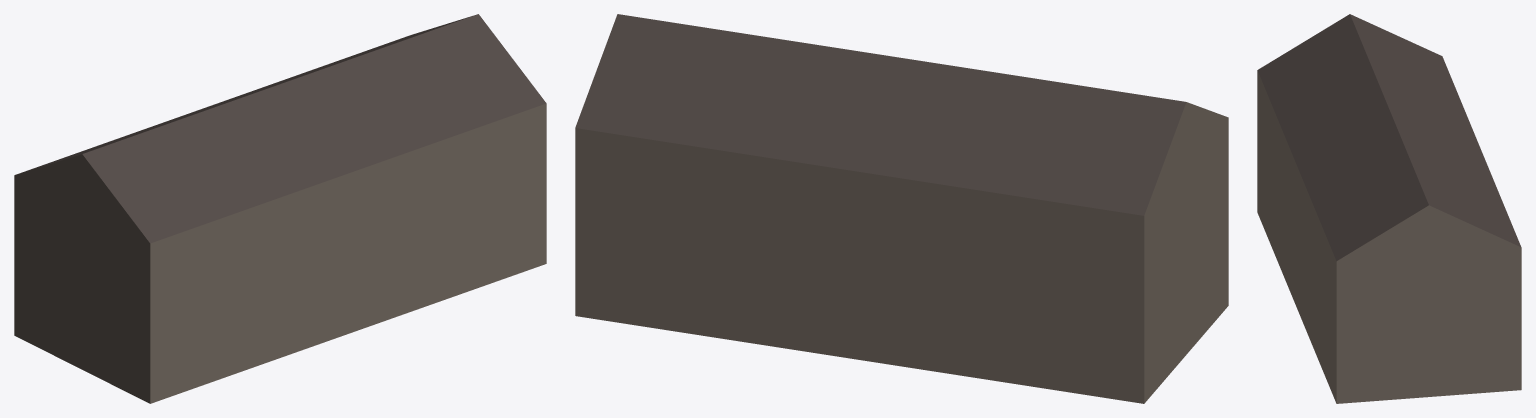
3 views of the same model, side by side, from view 1: azimuth 30°, elevation 25°; view 2: azimuth 150°, elevation 25°; view 3: azimuth 270°, elevation 25° (orthographic). The views are drawn at different scales.
Visible parts, largest first — view 1: HP-w1376988677; view 2: HP-w1376988677; view 3: HP-w1376988677.
Boxes of the visible parts, x1=… form: HP-w1376988677: x1=14, y1=14, x2=546, y2=403; HP-w1376988677: x1=575, y1=14, x2=1228, y2=403; HP-w1376988677: x1=1257, y1=14, x2=1521, y2=403.
Size of the model in its own units: 18.5 by 8.07 by 10.07.
